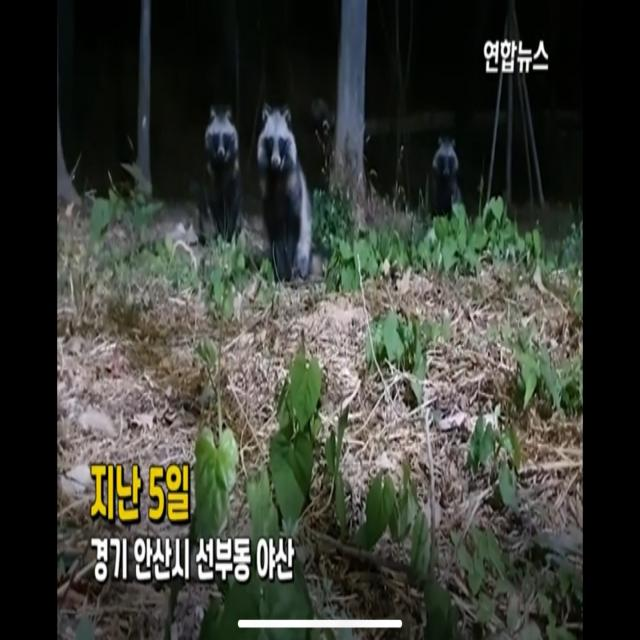racoon: (259, 100, 313, 290), (200, 100, 243, 240), (431, 120, 459, 234)
